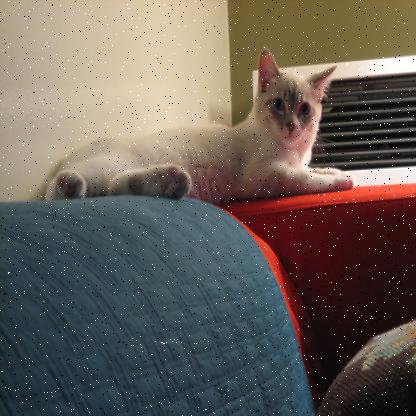cat: (58, 42, 363, 202)
